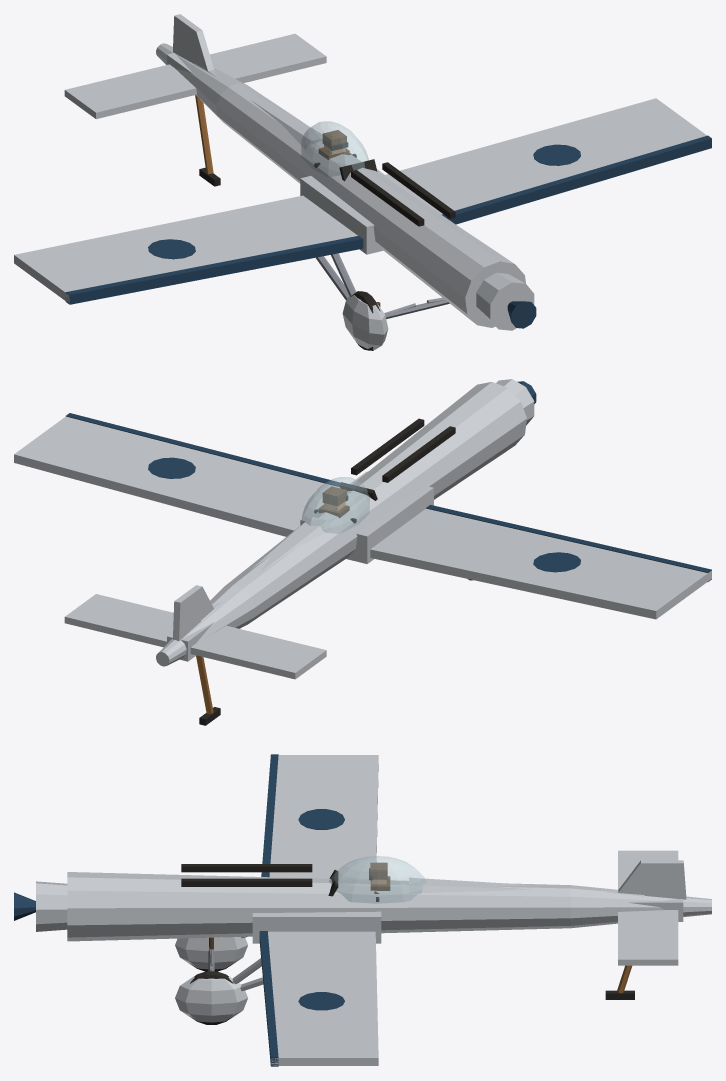
The model's file is body.glb.
3 views of the same model, one above another, from view 1: azimuth 30°, elevation 25°; view 2: azimuth 150°, elevation 25°; view 3: azimuth 270°, elevation 25° (orthographic). The views are drawn at different scales.
Visible parts, largest first — view 1: wing_0, fuselage, wing_0_leading_edge, horizontal_stabilizer, canopy, wing_root_fairing, engine_nose, wheel_spat, tail_cone, vertical_fin, turtledeck, gun_cowl_r (+5 smaller); view 2: wing_0, fuselage, horizontal_stabilizer, wing_0_leading_edge, canopy, tail_cone, wing_root_fairing, vertical_fin, turtledeck, gun_cowl_r, gun_cowl_l, roundel_0_r (+2 smaller); view 3: wing_0, fuselage, horizontal_stabilizer, wheel_spat (×2), canopy, tail_cone, wing_root_fairing, wing_0_leading_edge, vertical_fin, engine_nose, turtledeck, gun_cowl_r (+3 smaller).
Part boxes in pixels (left/top/right/bottom): wing_0: left=14, top=98, right=706, bottom=303; fuselage: left=216, top=83, right=525, bottom=327; wing_0_leading_edge: left=65, top=135, right=711, bottom=304; horizontal_stabilizer: left=64, top=33, right=326, bottom=119; canopy: left=301, top=121, right=368, bottom=177; wing_root_fairing: left=300, top=169, right=417, bottom=254; engine_nose: left=476, top=272, right=534, bottom=330; wheel_spat: left=342, top=292, right=388, bottom=349; tail_cone: left=156, top=43, right=246, bottom=121; vertical_fin: left=173, top=14, right=213, bottom=70; turtledeck: left=194, top=63, right=322, bottom=149; gun_cowl_r: left=382, top=162, right=455, bottom=218; wing_0: left=14, top=416, right=711, bottom=619; fuselage: left=224, top=382, right=526, bottom=623; horizontal_stabilizer: left=64, top=594, right=326, bottom=679; wing_0_leading_edge: left=66, top=413, right=711, bottom=581; canopy: left=301, top=477, right=369, bottom=533; tail_cone: left=156, top=585, right=254, bottom=666; wing_root_fairing: left=300, top=471, right=433, bottom=563; vertical_fin: left=173, top=585, right=213, bottom=641; turtledeck: left=200, top=516, right=332, bottom=621; gun_cowl_r: left=351, top=418, right=424, bottom=475; gun_cowl_l: left=382, top=426, right=455, bottom=482; roundel_0_r: left=148, top=457, right=195, bottom=478; wing_0: left=268, top=755, right=378, bottom=1065; fuselage: left=67, top=872, right=570, bottom=941; horizontal_stabilizer: left=618, top=850, right=678, bottom=965; wheel_spat (×2): left=175, top=937, right=247, bottom=1022; canopy: left=329, top=856, right=426, bottom=903; tail_cone: left=571, top=885, right=711, bottom=928; wing_root_fairing: left=252, top=911, right=381, bottom=943; wing_0_leading_edge: left=259, top=754, right=278, bottom=1066; vertical_fin: left=618, top=860, right=686, bottom=899; engine_nose: left=36, top=881, right=67, bottom=931; turtledeck: left=409, top=877, right=644, bottom=896; gun_cowl_r: left=181, top=878, right=312, bottom=886.
Bounding box in the file's own units: 10.32 × 2.24 × 10.05.
